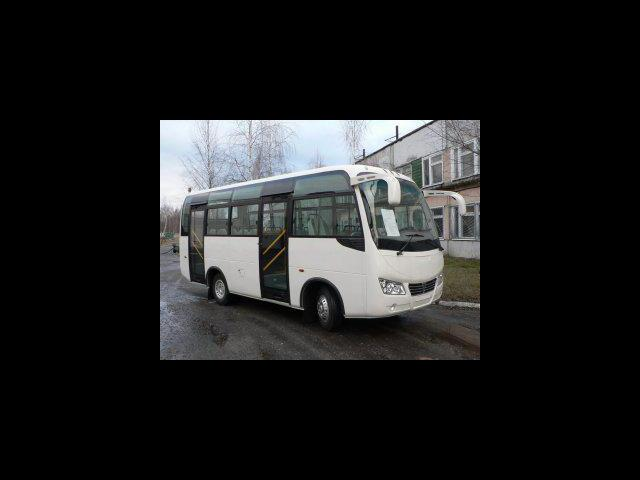bus: (178, 162, 471, 328)
